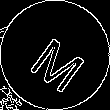M_NE: (22, 21, 88, 89)
